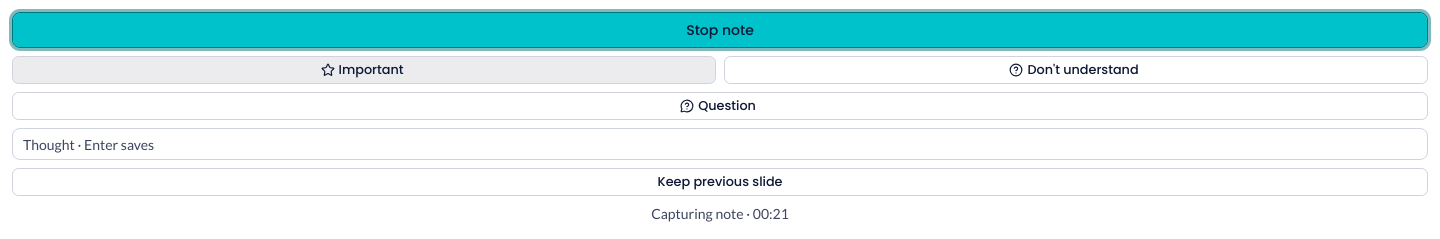
Test: floating window: marks, a thought and the slide offer
Later steps or results of the test are not shown.
Type "Why not a full scan?" into the field named "A thought for this note" at (720, 144), box [12, 128, 1428, 160]
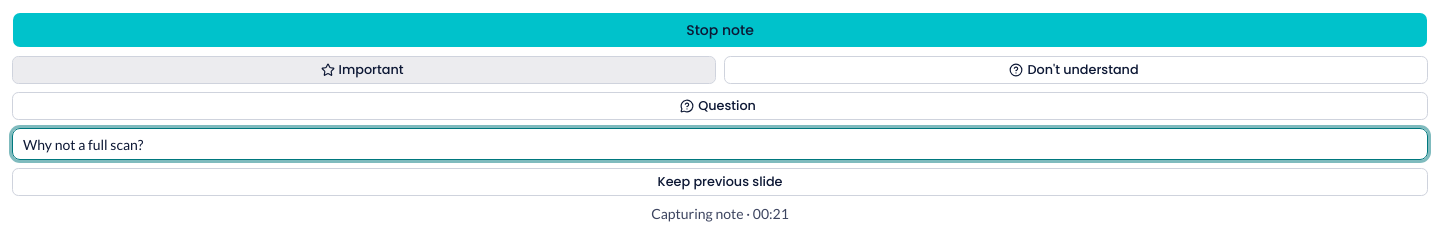
Click the button "Don't understand" at (1076, 70), box [724, 56, 1428, 84]
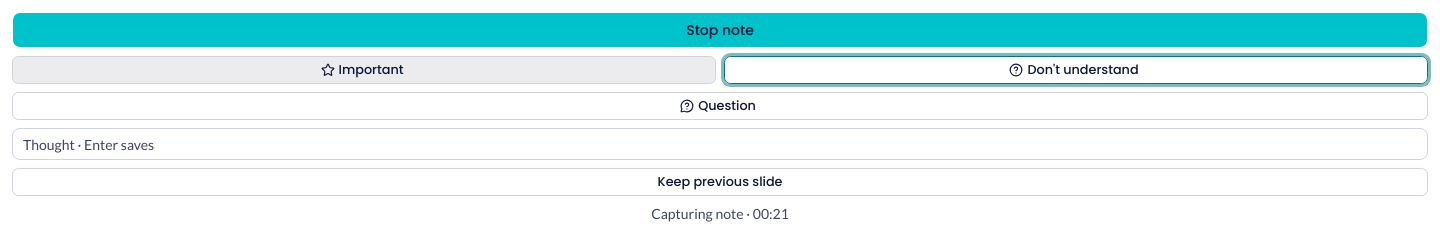
Now the field named "A thought for this note" is empty, box [12, 128, 1428, 160]
